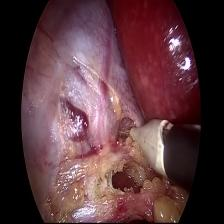Hook: (116, 114, 171, 170)
